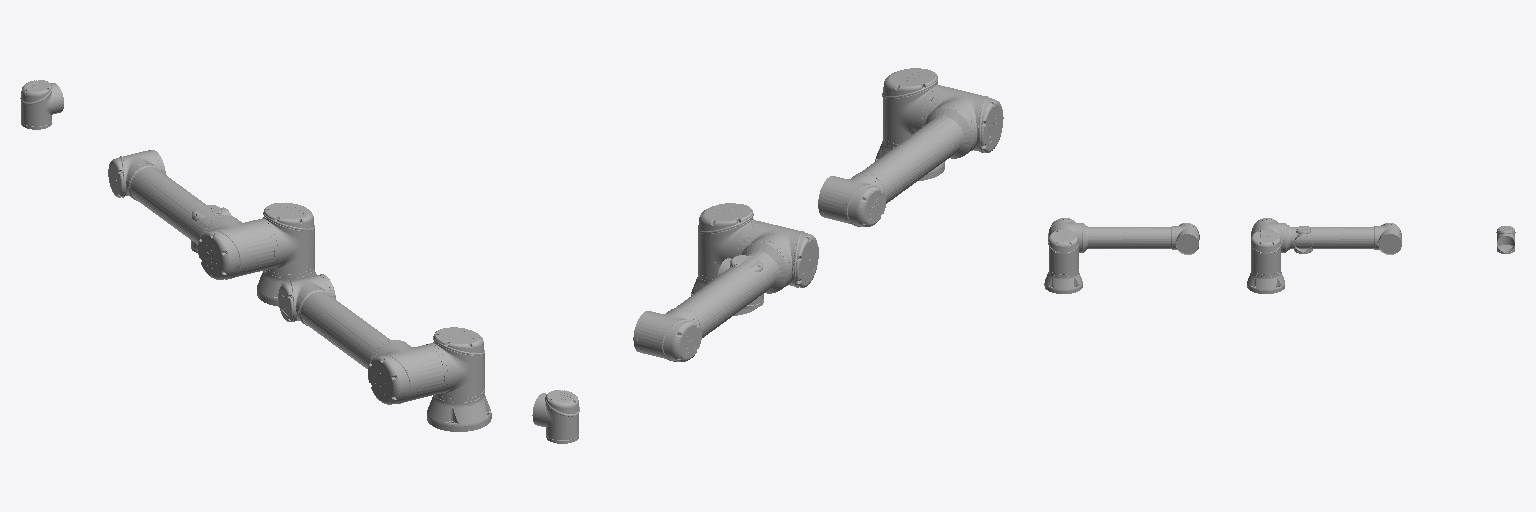
robot.urdf — ur10e_robot:
<?xml version="1.0" ?>
<!-- =================================================================================== -->
<!-- |    This document was autogenerated by xacro from ur_description/urdf/ur10e.xacro | -->
<!-- |    EDITING THIS FILE BY HAND IS NOT RECOMMENDED                                 | -->
<!-- =================================================================================== -->
<robot name="ur10e_robot">
  <!--
    Base UR robot series xacro macro.

    NOTE: this is NOT a URDF. It cannot directly be loaded by consumers
    expecting a flattened '.urdf' file. See the top-level '.xacro' for that
    (but note: that .xacro must still be processed by the xacro command).

    For use in '.launch' files: use one of the 'load_urX.launch' convenience
    launch files.

    This file models the base kinematic chain of a UR robot, which then gets
    parameterised by various configuration files to convert it into a UR3(e),
    UR5(e), UR10(e) or UR16e.

    NOTE: the default kinematic parameters (ie: link lengths, frame locations,
    offets, etc) do not correspond to any particular robot. They are defaults
    only. There WILL be non-zero offsets between the Forward Kinematics results
    in TF (ie: robot_state_publisher) and the values reported by the Teach
    Pendant.

    For accurate (and robot-specific) transforms, the 'kinematics_parameters_file'
    parameter MUST point to a .yaml file containing the appropriate values for
    the targetted robot.

    If using the UniversalRobots/Universal_Robots_ROS_Driver, follow the steps
    described in the readme of that repository to extract the kinematic
    calibration from the controller and generate the required .yaml file.

    Main author of the migration to yaml configs: Ludovic Delval.

    Contributors to previous versions (in no particular order):

     - Felix Messmer
     - Kelsey Hawkins
     - Wim Meeussen
     - Shaun Edwards
     - Nadia Hammoudeh Garcia
     - Dave Hershberger
     - G. vd. Hoorn
     - Philip Long
     - Dave Coleman
     - Miguel Prada
     - Mathias Luedtke
     - Marcel Schnirring
     - Felix von Drigalski
     - Felix Exner
     - Jimmy Da Silva
     - Ajit Krisshna N L
     - Muhammad Asif Rana
  -->
  <!--
    NOTE: the macro defined in this file is NOT part of the public API of this
          package. Users CANNOT rely on this file being available, or stored in
          this location. Nor can they rely on the existence of the macro.
  -->

  <!-- links: main serial chain -->
  <link name="world_base_link"/>
  <link name="base_fixture_link"/>
  <link name="base_link"/>

  <joint name="world_base_joint" type="fixed">
    <parent link="world_base_link"/>
    <child link="base_fixture_link"/>
    <origin rpy="0 0 1.57" xyz="0 0 0"/>
  </joint>


    <!-- joints: main serial chain -->
  <joint name="base_joint" type="fixed">
    <parent link="base_fixture_link"/>
    <child link="base_link"/>
    <origin rpy="0 0 0.0" xyz="0.5 0.15 0.1"/>

  </joint>


  <link name="base_link_inertia">
    <visual>
      <origin rpy="0 0 3.141592653589793" xyz="0 0 0"/>
      <geometry>
        <mesh filename="meshes/ur10e/visual/base.dae"/>
      </geometry>
      <material name="LightGrey">
        <color rgba="0.7 0.7 0.7 1.0"/>
      </material>
    </visual>
    <collision>
      <origin rpy="0 0 3.141592653589793" xyz="0 0 0"/>
      <geometry>
        <mesh filename="meshes/ur10e/collision/base.stl"/>
      </geometry>
    </collision>
    <inertial>
      <mass value="4.0"/>
      <origin rpy="0 0 0" xyz="0 0 0"/>
      <inertia ixx="0.0061063308908" ixy="0.0" ixz="0.0" iyy="0.0061063308908" iyz="0.0" izz="0.01125"/>
    </inertial>
  </link>
  <joint name="base_link_base_link_inertia_joint" type="fixed">
    <parent link="base_link"/>
    <child link="base_link_inertia"/>
    <!-- 'base_link' is REP-103 aligned (so X+ forward), while the internal
           frames of the robot/controller have X+ pointing backwards.
           Use the joint between 'base_link' and 'base_link_inertia' (a dummy
           link/frame) to introduce the necessary rotation over Z (of pi rad).
      -->
    <origin rpy="0 0 3.141592653589793" xyz="0 0 0"/>
  </joint>

  <link name="shoulder_link">
    <visual>
      <origin rpy="0 0 3.141592653589793" xyz="0 0 0"/>
      <geometry>
        <mesh filename="meshes/ur10e/visual/shoulder.dae"/>
      </geometry>
      <material name="LightGrey">
        <color rgba="0.7 0.7 0.7 1.0"/>
      </material>
    </visual>
    <collision>
      <origin rpy="0 0 3.141592653589793" xyz="0 0 0"/>
      <geometry>
        <mesh filename="meshes/ur10e/collision/shoulder.stl"/>
      </geometry>
    </collision>
    <inertial>
      <mass value="7.778"/>
      <origin rpy="0 0 0" xyz="0 0 0"/>
      <inertia ixx="0.03147431257693659" ixy="0.0" ixz="0.0" iyy="0.03147431257693659" iyz="0.0" izz="0.021875624999999996"/>
    </inertial>
  </link>
  <link name="upper_arm_link">
    <visual>
      <origin rpy="1.5707963267948966 0 -1.5707963267948966" xyz="0 0 0.1762"/>
      <geometry>
        <mesh filename="meshes/ur10e/visual/upperarm.dae"/>
      </geometry>
      <material name="LightGrey">
        <color rgba="0.7 0.7 0.7 1.0"/>
      </material>
    </visual>
    <collision>
      <origin rpy="1.5707963267948966 0 -1.5707963267948966" xyz="0 0 0.1762"/>
      <geometry>
        <mesh filename="meshes/ur10e/collision/upperarm.stl"/>
      </geometry>
    </collision>
    <inertial>
      <mass value="12.93"/>
      <origin rpy="0 1.5707963267948966 0" xyz="-0.306 0.0 0.175"/>
      <inertia ixx="0.42175380379841093" ixy="0.0" ixz="0.0" iyy="0.42175380379841093" iyz="0.0" izz="0.03636562499999999"/>
    </inertial>
  </link>
  <link name="forearm_link">
    <visual>
      <origin rpy="1.5707963267948966 0 -1.5707963267948966" xyz="0 0 0.0393"/>
      <geometry>
        <mesh filename="meshes/ur10e/visual/forearm.dae"/>
      </geometry>
      <material name="LightGrey">
        <color rgba="0.7 0.7 0.7 1.0"/>
      </material>
    </visual>
    <collision>
      <origin rpy="1.5707963267948966 0 -1.5707963267948966" xyz="0 0 0.0393"/>
      <geometry>
        <mesh filename="meshes/ur10e/collision/forearm.stl"/>
      </geometry>
    </collision>
    <inertial>
      <mass value="3.87"/>
      <origin rpy="0 1.5707963267948966 0" xyz="-0.285775 0.0 0.0393"/>
      <inertia ixx="0.11079302548902206" ixy="0.0" ixz="0.0" iyy="0.11079302548902206" iyz="0.0" izz="0.010884375"/>
    </inertial>
  </link>
  <link name="wrist_1_link">
    <visual>
      <origin rpy="1.5707963267948966 0 0" xyz="0 0 -0.135"/>
      <geometry>
        <mesh filename="meshes/ur10e/visual/wrist1.dae"/>
      </geometry>
      <material name="LightGrey">
        <color rgba="0.7 0.7 0.7 1.0"/>
      </material>
    </visual>
    <collision>
      <origin rpy="1.5707963267948966 0 0" xyz="0 0 -0.135"/>
      <geometry>
        <mesh filename="meshes/ur10e/collision/wrist1.stl"/>
      </geometry>
    </collision>
    <inertial>
      <mass value="1.96"/>
      <origin rpy="0 0 0" xyz="0 0 0"/>
      <inertia ixx="0.005108247956699999" ixy="0.0" ixz="0.0" iyy="0.005108247956699999" iyz="0.0" izz="0.005512499999999999"/>
    </inertial>
  </link>
  <link name="wrist_2_link">
    <visual>
      <origin rpy="0 0 0" xyz="0 0 -0.12"/>
      <geometry>
        <mesh filename="meshes/ur10e/visual/wrist2.dae"/>
      </geometry>
      <material name="LightGrey">
        <color rgba="0.7 0.7 0.7 1.0"/>
      </material>
    </visual>
    <collision>
      <origin rpy="0 0 0" xyz="0 0 -0.12"/>
      <geometry>
        <mesh filename="meshes/ur10e/collision/wrist2.stl"/>
      </geometry>
    </collision>
    <inertial>
      <mass value="1.96"/>
      <origin rpy="0 0 0" xyz="0 0 0"/>
      <inertia ixx="0.005108247956699999" ixy="0.0" ixz="0.0" iyy="0.005108247956699999" iyz="0.0" izz="0.005512499999999999"/>
    </inertial>
  </link>
  <link name="wrist_3_link">
    <visual>
      <origin rpy="1.5707963267948966 0 0" xyz="0 0 -0.1168"/>
      <geometry>
        <mesh filename="meshes/ur10e/visual/wrist3.dae"/>
      </geometry>
      <material name="LightGrey">
        <color rgba="0.7 0.7 0.7 1.0"/>
      </material>
    </visual>
    <collision>
      <origin rpy="1.5707963267948966 0 0" xyz="0 0 -0.1168"/>
      <geometry>
        <mesh filename="meshes/ur10e/collision/wrist3.stl"/>
      </geometry>
    </collision>
    <inertial>
      <mass value="0.202"/>
      <origin rpy="0 0 0" xyz="0.0 0.0 -0.025"/>
      <inertia ixx="0.00014434577559500002" ixy="0.0" ixz="0.0" iyy="0.00014434577559500002" iyz="0.0" izz="0.00020452500000000002"/>
    </inertial>
  </link>


  <joint name="shoulder_pan_joint" type="revolute">
    <parent link="base_link_inertia"/>
    <child link="shoulder_link"/>
    <origin rpy="0 0 0" xyz="0 0 0.1807"/>
    <axis xyz="0 0 1"/>
    <limit effort="330.0" lower="-6.283185307179586" upper="6.283185307179586" velocity="2.0943951023931953"/>
    <dynamics damping="0" friction="0"/>
  </joint>
  <joint name="shoulder_lift_joint" type="revolute">
    <parent link="shoulder_link"/>
    <child link="upper_arm_link"/>
    <origin rpy="1.570796327 0 0" xyz="0 0 0"/>
    <axis xyz="0 0 1"/>
    <limit effort="330.0" lower="-6.283185307179586" upper="6.283185307179586" velocity="2.0943951023931953"/>
    <dynamics damping="0" friction="0"/>
  </joint>
  <joint name="elbow_joint" type="revolute">
    <parent link="upper_arm_link"/>
    <child link="forearm_link"/>
    <origin rpy="0 0 0" xyz="-0.6127 0 0"/>
    <axis xyz="0 0 1"/>
    <limit effort="150.0" lower="-3.141592653589793" upper="3.141592653589793" velocity="3.141592653589793"/>
    <dynamics damping="0" friction="0"/>
  </joint>
  <joint name="wrist_1_joint" type="revolute">
    <parent link="forearm_link"/>
    <child link="wrist_1_link"/>
    <origin rpy="0 0 0" xyz="-0.57155 0 0.17415"/>
    <axis xyz="0 0 1"/>
    <limit effort="56.0" lower="-6.283185307179586" upper="6.283185307179586" velocity="3.141592653589793"/>
    <dynamics damping="0" friction="0"/>
  </joint>
  <joint name="wrist_2_joint" type="revolute">
    <parent link="wrist_1_link"/>
    <child link="wrist_2_link"/>
    <origin rpy="1.570796327 0 0" xyz="0 -0.11985 -2.458164590756244e-11"/>
    <axis xyz="0 0 1"/>
    <limit effort="56.0" lower="-6.283185307179586" upper="6.283185307179586" velocity="3.141592653589793"/>
    <dynamics damping="0" friction="0"/>
  </joint>
  <joint name="wrist_3_joint" type="revolute">
    <parent link="wrist_2_link"/>
    <child link="wrist_3_link"/>
    <origin rpy="1.570796326589793 3.141592653589793 3.141592653589793" xyz="0 0.11655 -2.390480459346185e-11"/>
    <axis xyz="0 0 1"/>
    <limit effort="56.0" lower="-6.283185307179586" upper="6.283185307179586" velocity="3.141592653589793"/>
    <dynamics damping="0" friction="0"/>
  </joint>

  <link name="flange"/>
  <joint name="wrist_3-flange" type="fixed">
    <parent link="wrist_3_link"/>
    <child link="flange"/>
    <origin rpy="0 -1.5707963267948966 -1.5707963267948966" xyz="0 0 0"/>
  </joint>
  <!-- ROS-Industrial 'tool0' frame: all-zeros tool frame -->
  <link name="tool0"/>
  <joint name="flange-tool0" type="fixed">
    <!-- default toolframe: X+ left, Y+ up, Z+ front -->
    <origin rpy="1.5707963267948966 0 1.5707963267948966" xyz="0 0 0"/>
    <parent link="flange"/>
    <child link="tool0"/>
  </joint>
  <!-- ROS-Industrial 'base' frame: base_link to UR 'Base' Coordinates transform -->



    <!-- joints: main serial chain -->
  <joint name="base_fixture_j_base_link_1" type="fixed">
    <parent link="base_fixture_link"/>
    <child link="base_link_1"/>
    <origin rpy="0 0.0 0.0" xyz="-0.5 0.15 0.1"/>
  </joint>



  <link name="base_link_inertia_link_1">
    <visual>
      <origin rpy="0 0 3.141592653589793" xyz="0 0 0"/>
      <geometry>
        <mesh filename="meshes/ur10e/visual/base.dae"/>
      </geometry>
      <material name="LightGrey">
        <color rgba="0.7 0.7 0.7 1.0"/>
      </material>
    </visual>
    <collision>
      <origin rpy="0 0 3.141592653589793" xyz="0 0 0"/>
      <geometry>
        <mesh filename="meshes/ur10e/collision/base.stl"/>
      </geometry>
    </collision>
    <inertial>
      <mass value="4.0"/>
      <origin rpy="0 0 0" xyz="0 0 0"/>
      <inertia ixx="0.0061063308908" ixy="0.0" ixz="0.0" iyy="0.0061063308908" iyz="0.0" izz="0.01125"/>
    </inertial>
  </link>
  <link name="shoulder_link_1">
    <visual>
      <origin rpy="0 0 3.141592653589793" xyz="0 0 0"/>
      <geometry>
        <mesh filename="meshes/ur10e/visual/shoulder.dae"/>
      </geometry>
      <material name="LightGrey">
        <color rgba="0.7 0.7 0.7 1.0"/>
      </material>
    </visual>
    <collision>
      <origin rpy="0 0 3.141592653589793" xyz="0 0 0"/>
      <geometry>
        <mesh filename="meshes/ur10e/collision/shoulder.stl"/>
      </geometry>
    </collision>
    <inertial>
      <mass value="7.778"/>
      <origin rpy="0 0 0" xyz="0 0 0"/>
      <inertia ixx="0.03147431257693659" ixy="0.0" ixz="0.0" iyy="0.03147431257693659" iyz="0.0" izz="0.021875624999999996"/>
    </inertial>
  </link>
  <link name="upper_arm_link_1">
    <visual>
      <origin rpy="1.5707963267948966 0 -1.5707963267948966" xyz="0 0 0.1762"/>
      <geometry>
        <mesh filename="meshes/ur10e/visual/upperarm.dae"/>
      </geometry>
      <material name="LightGrey">
        <color rgba="0.7 0.7 0.7 1.0"/>
      </material>
    </visual>
    <collision>
      <origin rpy="1.5707963267948966 0 -1.5707963267948966" xyz="0 0 0.1762"/>
      <geometry>
        <mesh filename="meshes/ur10e/collision/upperarm.stl"/>
      </geometry>
    </collision>
    <inertial>
      <mass value="12.93"/>
      <origin rpy="0 1.5707963267948966 0" xyz="-0.306 0.0 0.175"/>
      <inertia ixx="0.42175380379841093" ixy="0.0" ixz="0.0" iyy="0.42175380379841093" iyz="0.0" izz="0.03636562499999999"/>
    </inertial>
  </link>
  <link name="forearm_link_1">
    <visual>
      <origin rpy="1.5707963267948966 0 -1.5707963267948966" xyz="0 0 0.0393"/>
      <geometry>
        <mesh filename="meshes/ur10e/visual/forearm.dae"/>
      </geometry>
      <material name="LightGrey">
        <color rgba="0.7 0.7 0.7 1.0"/>
      </material>
    </visual>
    <collision>
      <origin rpy="1.5707963267948966 0 -1.5707963267948966" xyz="0 0 0.0393"/>
      <geometry>
        <mesh filename="meshes/ur10e/collision/forearm.stl"/>
      </geometry>
    </collision>
    <inertial>
      <mass value="3.87"/>
      <origin rpy="0 1.5707963267948966 0" xyz="-0.285775 0.0 0.0393"/>
      <inertia ixx="0.11079302548902206" ixy="0.0" ixz="0.0" iyy="0.11079302548902206" iyz="0.0" izz="0.010884375"/>
    </inertial>
  </link>
  <link name="wrist_1_link_1">
    <visual>
      <origin rpy="1.5707963267948966 0 0" xyz="0 0 -0.135"/>
      <geometry>
        <mesh filename="meshes/ur10e/visual/wrist1.dae"/>
      </geometry>
      <material name="LightGrey">
        <color rgba="0.7 0.7 0.7 1.0"/>
      </material>
    </visual>
    <collision>
      <origin rpy="1.5707963267948966 0 0" xyz="0 0 -0.135"/>
      <geometry>
        <mesh filename="meshes/ur10e/collision/wrist1.stl"/>
      </geometry>
    </collision>
    <inertial>
      <mass value="1.96"/>
      <origin rpy="0 0 0" xyz="0 0 0"/>
      <inertia ixx="0.005108247956699999" ixy="0.0" ixz="0.0" iyy="0.005108247956699999" iyz="0.0" izz="0.005512499999999999"/>
    </inertial>
  </link>
  <link name="wrist_2_link_1">
    <visual>
      <origin rpy="0 0 0" xyz="0 0 -0.12"/>
      <geometry>
        <mesh filename="meshes/ur10e/visual/wrist2.dae"/>
      </geometry>
      <material name="LightGrey">
        <color rgba="0.7 0.7 0.7 1.0"/>
      </material>
    </visual>
    <collision>
      <origin rpy="0 0 0" xyz="0 0 -0.12"/>
      <geometry>
        <mesh filename="meshes/ur10e/collision/wrist2.stl"/>
      </geometry>
    </collision>
    <inertial>
      <mass value="1.96"/>
      <origin rpy="0 0 0" xyz="0 0 0"/>
      <inertia ixx="0.005108247956699999" ixy="0.0" ixz="0.0" iyy="0.005108247956699999" iyz="0.0" izz="0.005512499999999999"/>
    </inertial>
  </link>
  <link name="wrist_3_link_1">
    <visual>
      <origin rpy="1.5707963267948966 0 0" xyz="0 0 -0.1168"/>
      <geometry>
        <mesh filename="meshes/ur10e/visual/wrist3.dae"/>
      </geometry>
      <material name="LightGrey">
        <color rgba="0.7 0.7 0.7 1.0"/>
      </material>
    </visual>
    <collision>
      <origin rpy="1.5707963267948966 0 0" xyz="0 0 -0.1168"/>
      <geometry>
        <mesh filename="meshes/ur10e/collision/wrist3.stl"/>
      </geometry>
    </collision>
    <inertial>
      <mass value="0.202"/>
      <origin rpy="0 0 0" xyz="0.0 0.0 -0.025"/>
      <inertia ixx="0.00014434577559500002" ixy="0.0" ixz="0.0" iyy="0.00014434577559500002" iyz="0.0" izz="0.00020452500000000002"/>
    </inertial>
  </link>


 <link name="base_link_1"/>

  <joint name="base_link_1_base_link_inertia_joint_1" type="fixed">
    <parent link="base_link_1"/>
    <child link="base_link_inertia_link_1"/>
    <!-- 'base_link' is REP-103 aligned (so X+ forward), while the internal
           frames of the robot/controller have X+ pointing backwards.
           Use the joint between 'base_link' and 'base_link_inertia' (a dummy
           link/frame) to introduce the necessary rotation over Z (of pi rad).
      -->
    <origin rpy="0 0 3.141592653589793" xyz="0 0 0"/>
  </joint>

  <joint name="shoulder_pan_joint_1" type="revolute">
    <parent link="base_link_inertia_link_1"/>
    <child link="shoulder_link_1"/>
    <origin rpy="0 0 0" xyz="0 0 0.1807"/>
    <axis xyz="0 0 1"/>
    <limit effort="330.0" lower="-6.283185307179586" upper="6.283185307179586" velocity="2.0943951023931953"/>
    <dynamics damping="0" friction="0"/>
  </joint>
  <joint name="shoulder_lift_joint_1" type="revolute">
    <parent link="shoulder_link_1"/>
    <child link="upper_arm_link_1"/>
    <origin rpy="1.570796327 0 0" xyz="0 0 0"/>
    <axis xyz="0 0 1"/>
    <limit effort="330.0" lower="-6.283185307179586" upper="6.283185307179586" velocity="2.0943951023931953"/>
    <dynamics damping="0" friction="0"/>
  </joint>
  <joint name="elbow_joint_1" type="revolute">
    <parent link="upper_arm_link_1"/>
    <child link="forearm_link_1"/>
    <origin rpy="0 0 0" xyz="-0.6127 0 0"/>
    <axis xyz="0 0 1"/>
    <limit effort="150.0" lower="-3.141592653589793" upper="3.141592653589793" velocity="3.141592653589793"/>
    <dynamics damping="0" friction="0"/>
  </joint>
  <joint name="wrist_1_joint_1" type="revolute">
    <parent link="forearm_link_1"/>
    <child link="wrist_1_link_1"/>
    <origin rpy="0 0 0" xyz="-0.57155 0 0.17415"/>
    <axis xyz="0 0 1"/>
    <limit effort="56.0" lower="-6.283185307179586" upper="6.283185307179586" velocity="3.141592653589793"/>
    <dynamics damping="0" friction="0"/>
  </joint>
  <joint name="wrist_2_joint_1" type="revolute">
    <parent link="wrist_1_link_1"/>
    <child link="wrist_2_link_1"/>
    <origin rpy="1.570796327 0 0" xyz="0 -0.11985 -2.458164590756244e-11"/>
    <axis xyz="0 0 1"/>
    <limit effort="56.0" lower="-6.283185307179586" upper="6.283185307179586" velocity="3.141592653589793"/>
    <dynamics damping="0" friction="0"/>
  </joint>
  <joint name="wrist_3_joint_1" type="revolute">
    <parent link="wrist_2_link_1"/>
    <child link="wrist_3_link_1"/>
    <origin rpy="1.570796326589793 3.141592653589793 3.141592653589793" xyz="0 0.11655 -2.390480459346185e-11"/>
    <axis xyz="0 0 1"/>
    <limit effort="56.0" lower="-6.283185307179586" upper="6.283185307179586" velocity="3.141592653589793"/>
    <dynamics damping="0" friction="0"/>
  </joint>

  <!-- ROS-Industrial 'flange' frame: attachment point for EEF models -->
  <link name="flange_1"/>
  <joint name="wrist_3_flange_1" type="fixed">
    <parent link="wrist_3_link_1"/>
    <child link="flange_1"/>
    <origin rpy="0 -1.5707963267948966 -1.5707963267948966" xyz="0 0 0"/>
  </joint>
  <!-- ROS-Industrial 'tool0' frame: all-zeros tool frame -->
  <link name="tool1"/>
  <joint name="flange_tool_1" type="fixed">
    <!-- default toolframe: X+ left, Y+ up, Z+ front -->
    <origin rpy="1.5707963267948966 0 1.5707963267948966" xyz="0 0 0"/>
    <parent link="flange_1"/>
    <child link="tool1"/>
  </joint>


</robot>

--- What the picture shows (computed from the rendered views, not written in the file) ---
Views: 3 orthographic renders of the robot side by side, from view 1: azimuth 30°, elevation 25°; view 2: azimuth 150°, elevation 25°; view 3: azimuth 270°, elevation 25°.
Robot: ur10e_robot — 22 links, 21 joints (12 revolute, 9 fixed); root link world_base_link; default pose: every joint at zero.
Visible links, largest first — view 1: upper_arm_link_1, upper_arm_link, shoulder_link, shoulder_link_1, base_link_inertia_link_1, wrist_1_link, base_link_inertia; view 2: upper_arm_link_1, upper_arm_link, shoulder_link_1, shoulder_link, wrist_1_link, wrist_1_link_1; view 3: upper_arm_link_1, upper_arm_link, shoulder_link_1, shoulder_link, base_link_inertia_link_1, base_link_inertia.
Link boxes in pixels (x1,y1,x2,y2): upper_arm_link_1: (278, 274, 443, 404); upper_arm_link: (108, 150, 273, 279); shoulder_link: (258, 203, 314, 273); shoulder_link_1: (426, 327, 484, 398); base_link_inertia_link_1: (427, 389, 491, 431); wrist_1_link: (20, 80, 63, 129); base_link_inertia: (257, 264, 316, 306); upper_arm_link_1: (818, 87, 1003, 226); upper_arm_link: (633, 222, 818, 361); shoulder_link_1: (882, 68, 944, 143); shoulder_link: (698, 203, 760, 278); wrist_1_link: (532, 390, 579, 443); wrist_1_link_1: (717, 255, 763, 308); upper_arm_link_1: (1048, 218, 1199, 254); upper_arm_link: (1251, 218, 1401, 254); shoulder_link_1: (1048, 230, 1078, 273); shoulder_link: (1251, 230, 1281, 273); base_link_inertia_link_1: (1044, 269, 1082, 293); base_link_inertia: (1247, 270, 1284, 293).
Bounding box of the posed robot: 0.3651 × 2.33 × 0.2746 m (x, y, z).
8 mesh visuals loaded from 7 distinct referenced files (4 Collada DAE); not drawn: 6 (reference not matched to a file when rendering).
